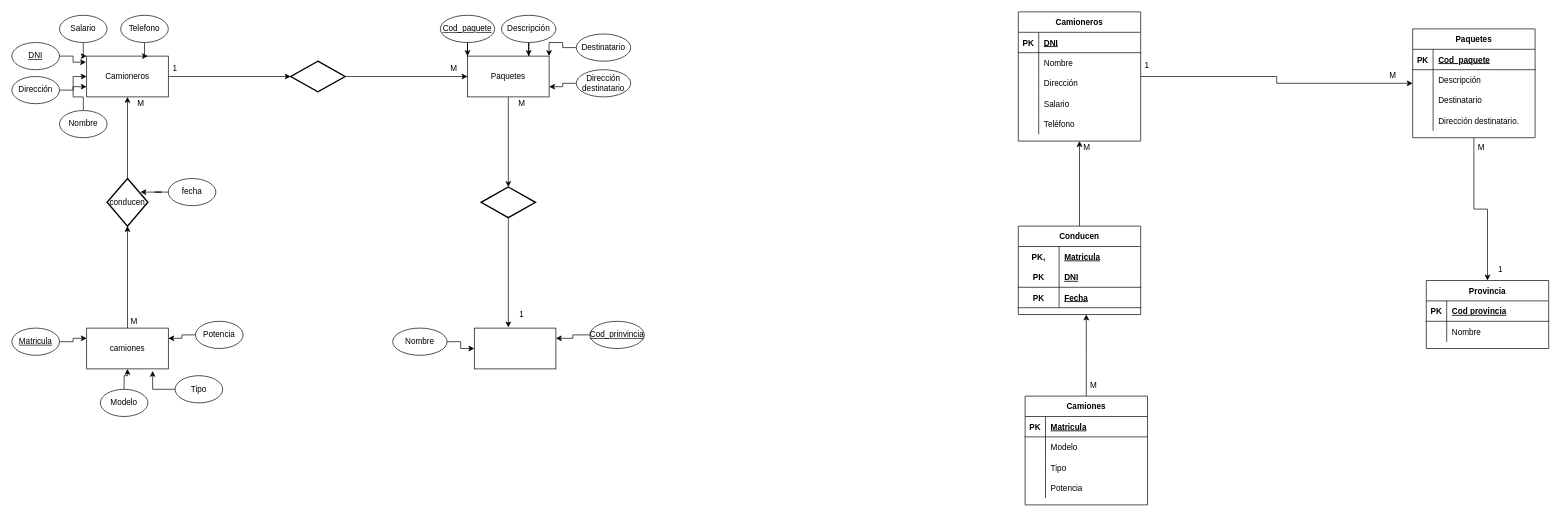
Image size: 1561x517. Some labels were removed from this diagram. The shapes that lost their labels are listed below. From the top down, each one's box as (x1, y1, x2, y2) in pixels, then its label:
(290, 60, 345, 92): Transportan
(480, 186, 536, 218): Llegan
(474, 327, 556, 369): Provincias
